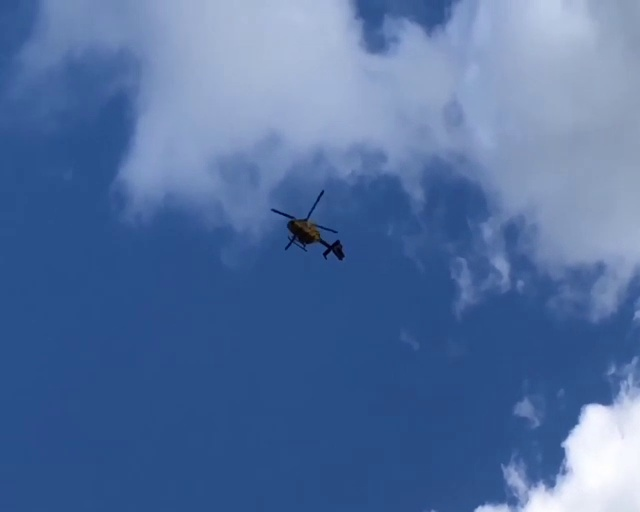HELICOPTER: (269, 187, 345, 260)
